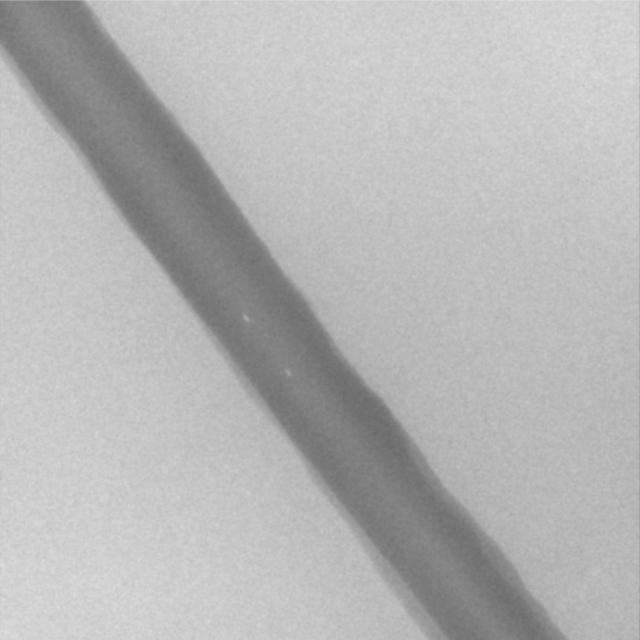air hole: (285, 369, 293, 379), (241, 314, 250, 322)
